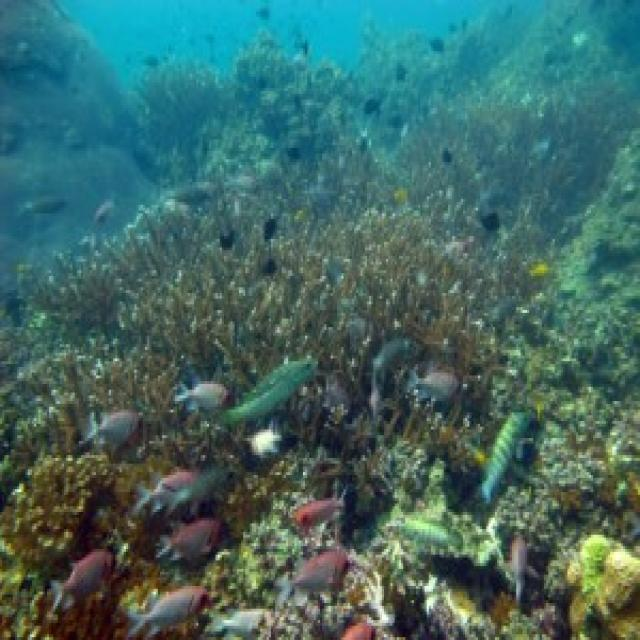Healthy: (22, 186, 504, 382), (18, 351, 180, 450), (16, 456, 116, 564)
